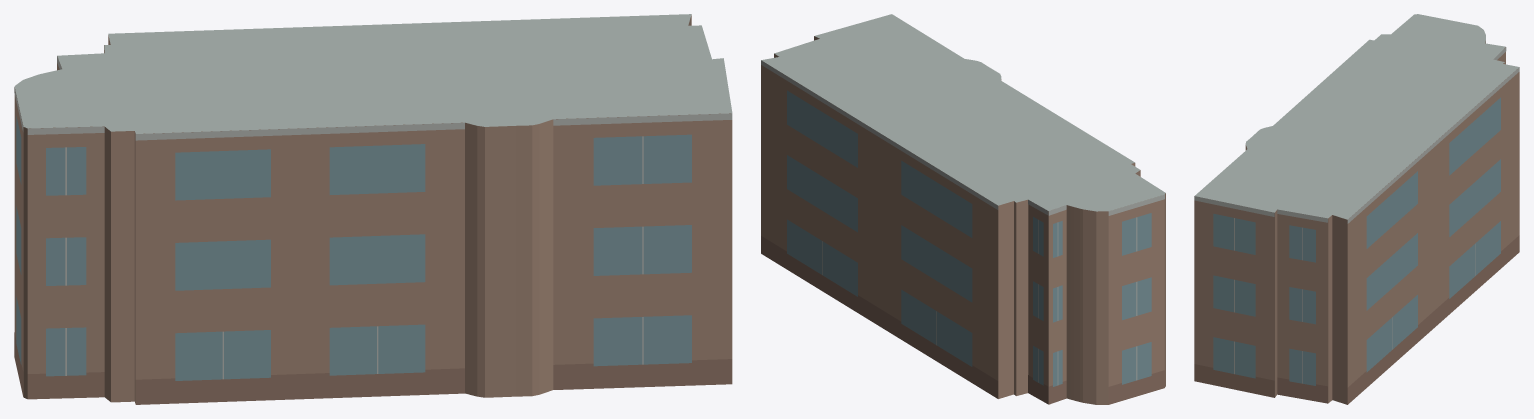
File: survey-upis-32975459.glb
3 renders of one model, left to right at view 1: azimuth 30°, elevation 25°; view 2: azimuth 150°, elevation 25°; view 3: azimuth 270°, elevation 25°, orthographic. The views are drawn at different scales.
Visible parts, largest first — view 1: survey-upis-32975459.tmp; view 2: survey-upis-32975459.tmp; view 3: survey-upis-32975459.tmp.
Part boxes in pixels (<box>): survey-upis-32975459.tmp: <box>14,14,732,404</box>; survey-upis-32975459.tmp: <box>761,14,1165,404</box>; survey-upis-32975459.tmp: <box>1194,14,1519,404</box>.
Bounding box in the file's own units: 24.19 × 10.15 × 16.16.
